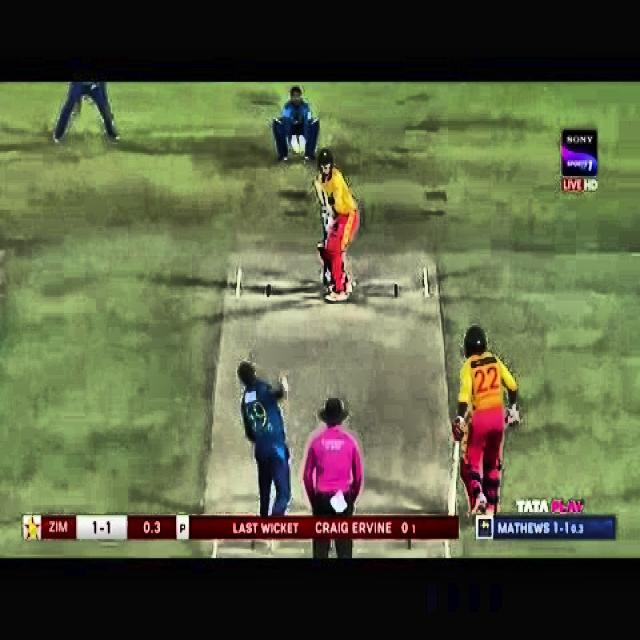Left-stump: (324, 261, 326, 284)
